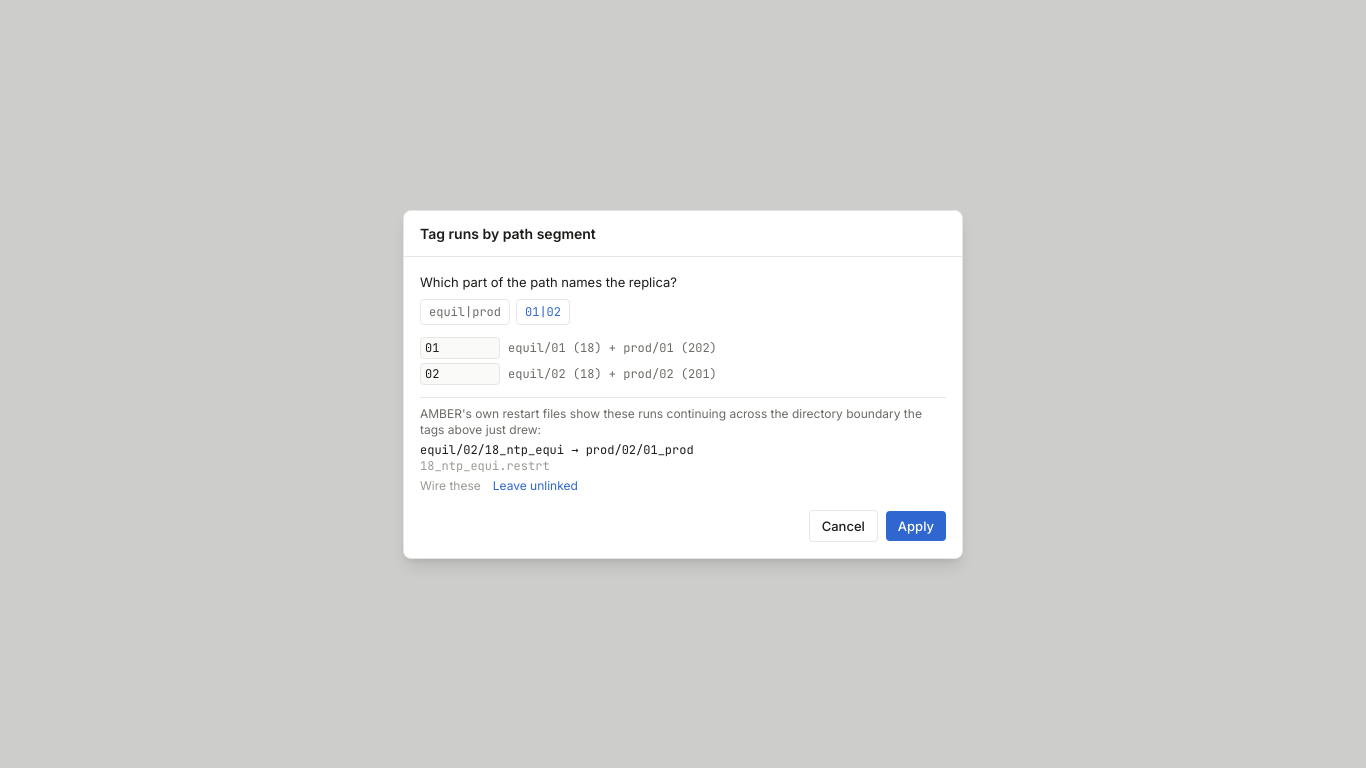
it: keeps the handoff rows when a segment is picked and unpicked
The image size is (1366, 768).
Expected: the list item "equil/02/18_ntp_equi → prod/02/01_prod 18_ntp_equi.restrt" is shown, [420, 442, 694, 474]
Away: this grouping's members straddle no directory pair, so it genuinely has none.
Step 1. Click the button "equil|prod" → (465, 312), box [420, 298, 510, 324]
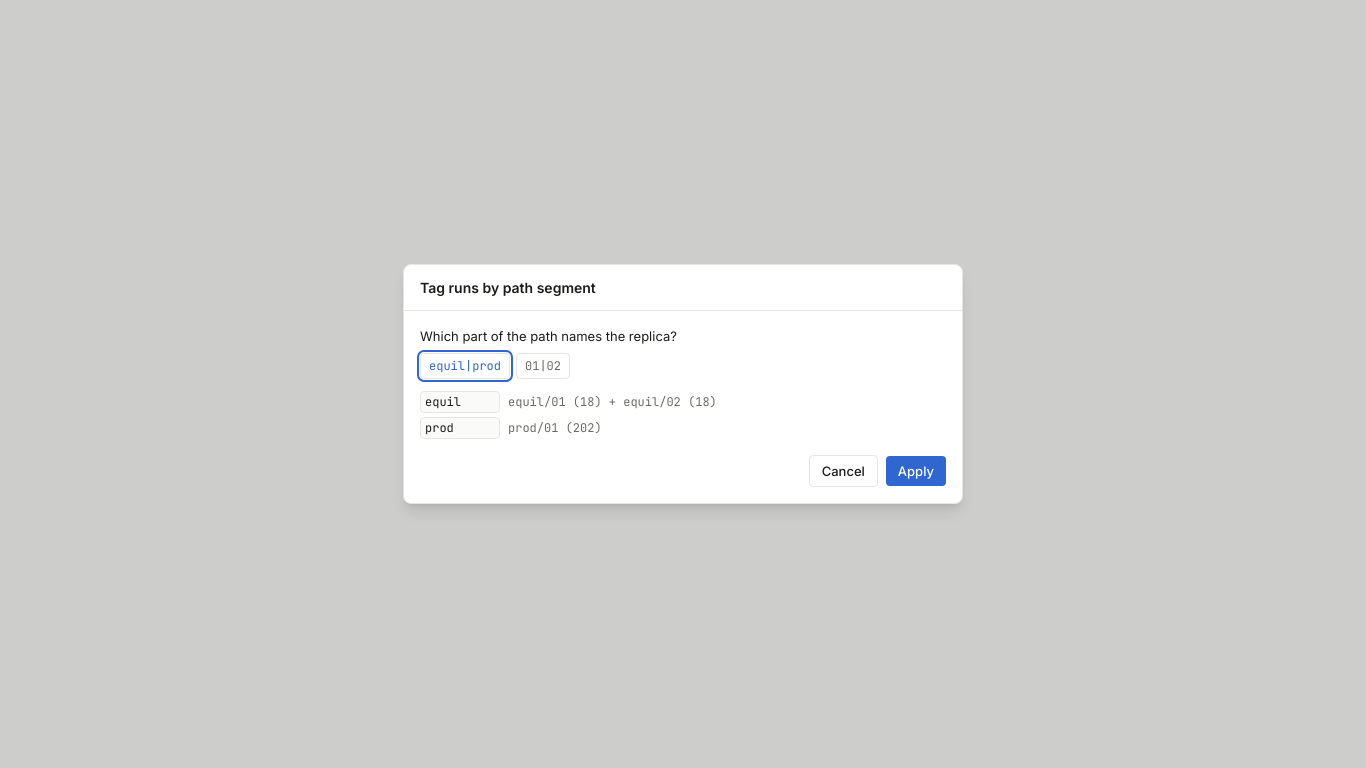
Expected: the list item "equil/02/18_ntp_equi" is gone
Step 2. Click the button "01|02" → (543, 366), box [516, 353, 570, 379]
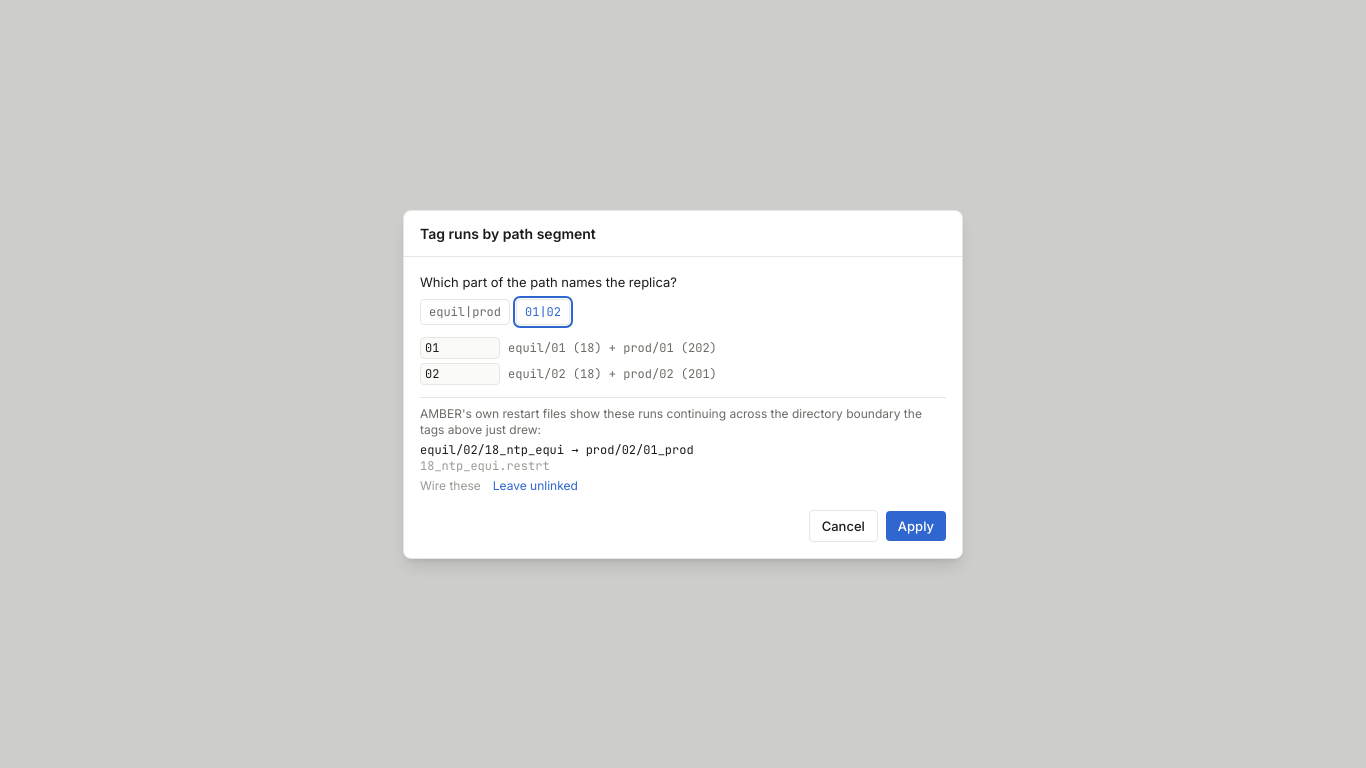
Expected: the list item "equil/02/18_ntp_equi → prod/02/01_prod 18_ntp_equi.restrt" is shown, [420, 442, 694, 474]
Expected: the button "Wire these" is shown, [420, 478, 481, 494]
